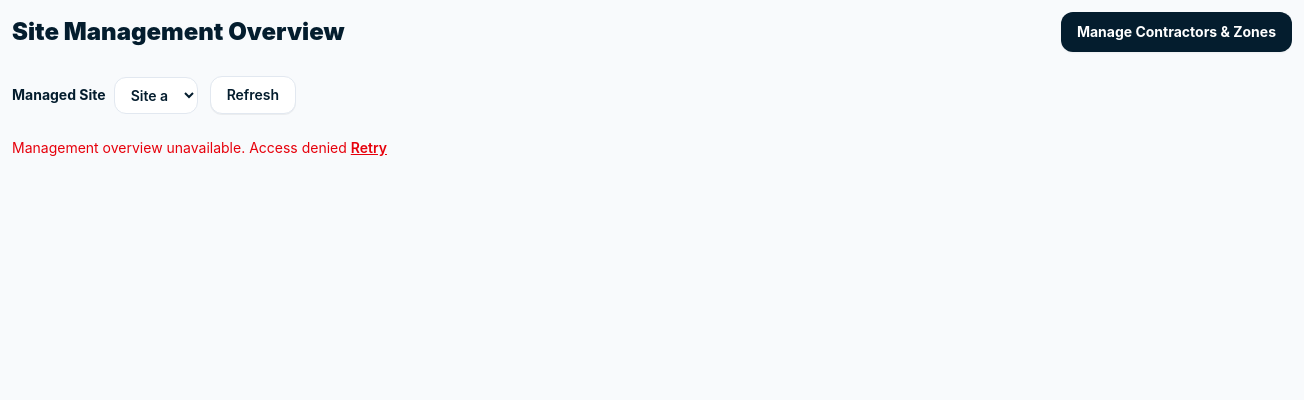
it: failed API shows unavailable and Retry without reporting zero contractors
Expected: the message "Management overview unavailable. Access denied Retry" is shown, [12, 138, 387, 158]
Expected: the text "0" is not shown
Click the button "Retry" at point(369, 148), box [351, 138, 387, 158]
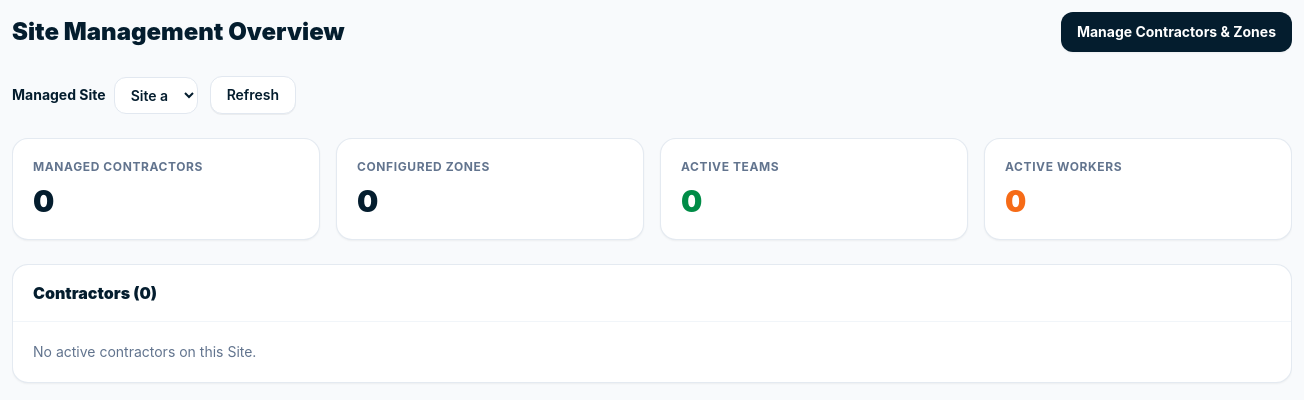
Expected: the text "No active contractors on this Site." is shown, [33, 343, 256, 360]
